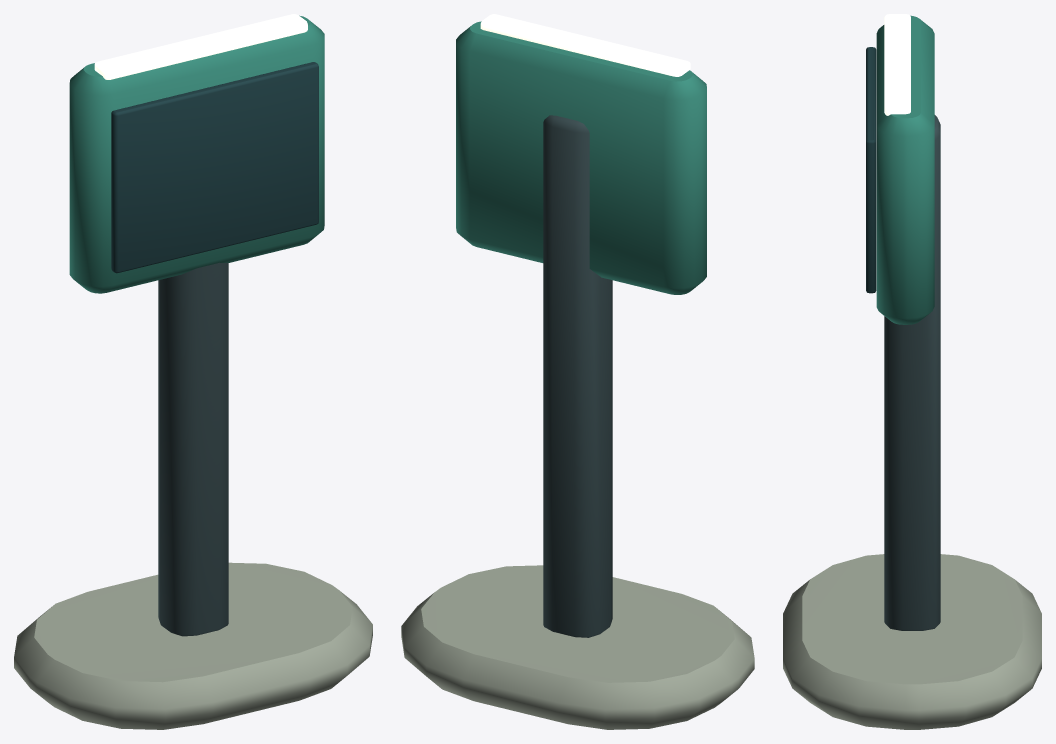
Rendered from freight_sign.glb.
The picture shows the model from 3 angles, left to right: view 1: azimuth 30°, elevation 25°; view 2: azimuth 150°, elevation 25°; view 3: azimuth 270°, elevation 25°; orthographic projection. The views are drawn at different scales.
Parts seen in each view (by area): view 1: freight_sign; view 2: freight_sign; view 3: freight_sign.
Boxes of the visible parts, x1,y1,x2,y2 form: freight_sign: (14,14,372,729); freight_sign: (401,14,754,729); freight_sign: (783,14,1041,729).
Bounding box in the file's own units: 0.91 × 1.72 × 0.67.
